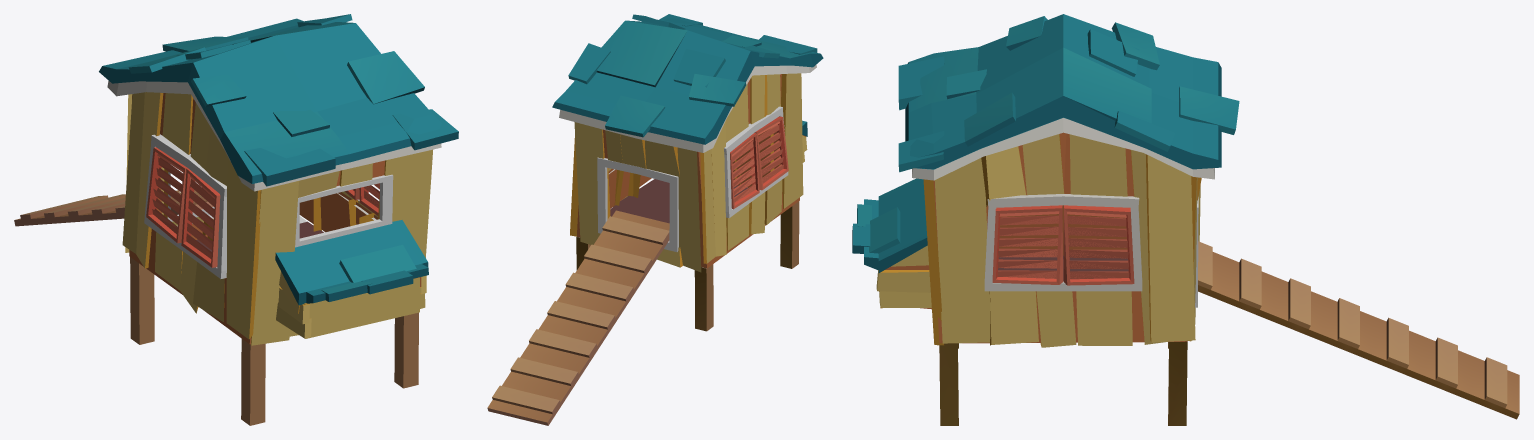
Rendered from chicken_coop.glb.
3 views of the same model, side by side, from view 1: azimuth 30°, elevation 25°; view 2: azimuth 150°, elevation 25°; view 3: azimuth 270°, elevation 25° (orthographic). The views are drawn at different scales.
Parts seen in each view (by area): view 1: chicken_coop; view 2: chicken_coop; view 3: chicken_coop.
Part boxes in pixels (<box>): chicken_coop: <box>14,14,458,425</box>; chicken_coop: <box>487,14,823,425</box>; chicken_coop: <box>852,14,1519,425</box>.
Size of the model in its own units: 1.51 by 2.39 by 4.1.
